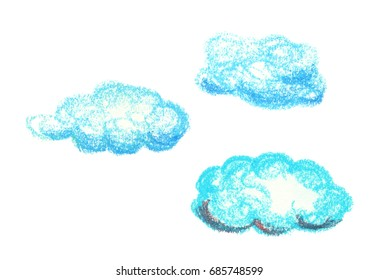cloud: (193, 151, 355, 233), (23, 78, 191, 157), (194, 30, 329, 111)
